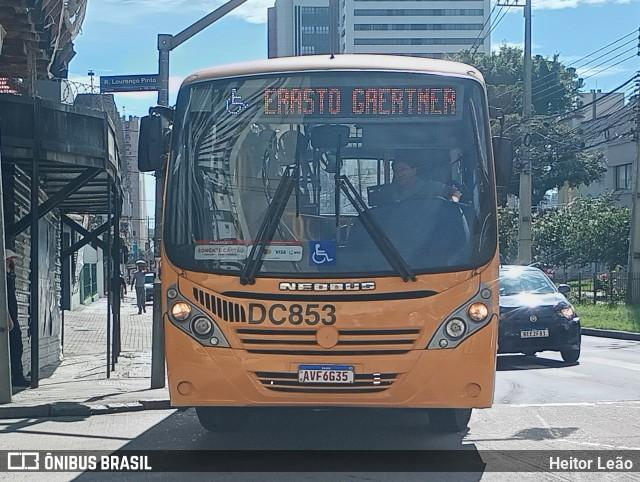ERASTO GAERTNER: (258, 85, 458, 119)
